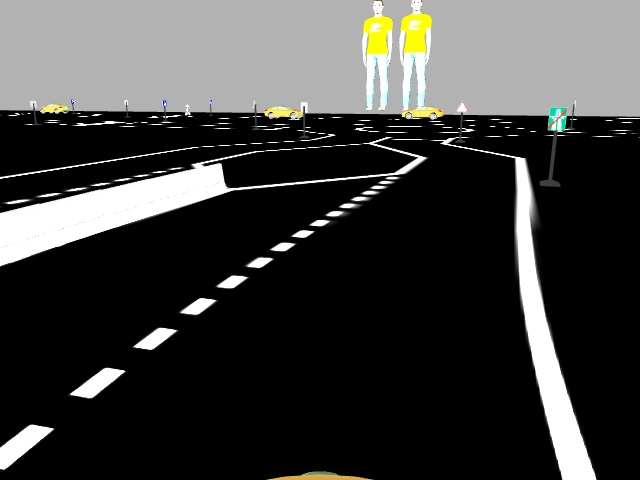HighwayExit: (547, 106, 567, 132)
